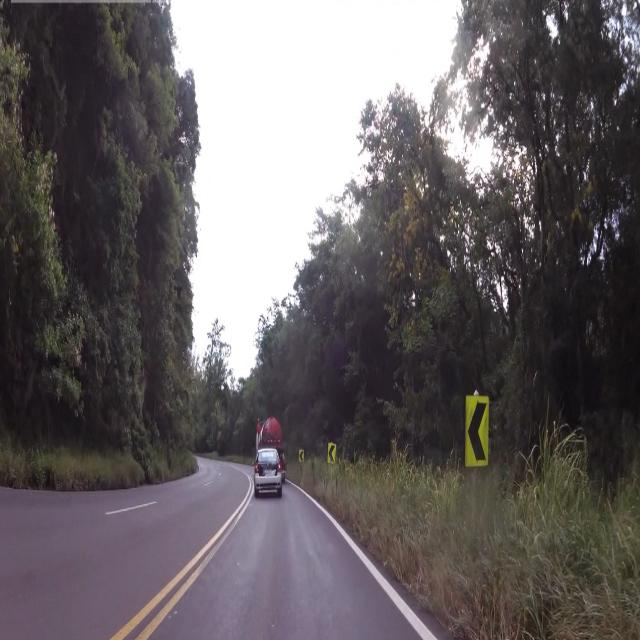Del: (465, 394, 488, 466)
